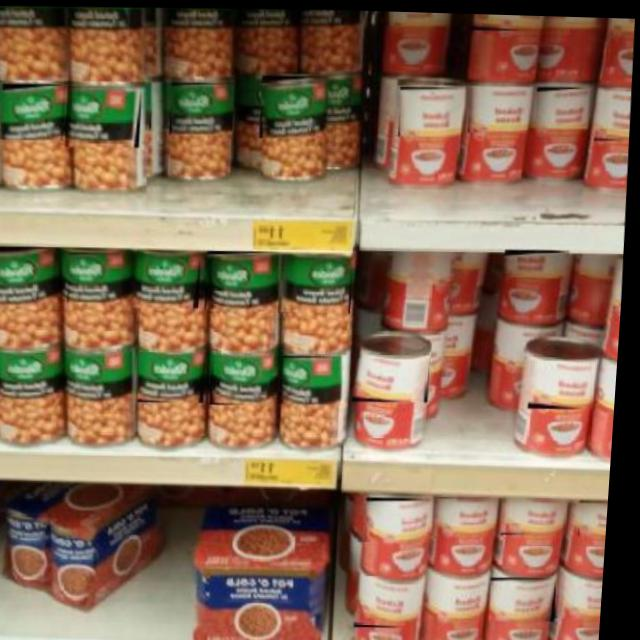Beans: (63, 84, 144, 148), (206, 248, 287, 309), (277, 253, 357, 314), (258, 73, 328, 139), (133, 250, 205, 309), (0, 342, 66, 406), (530, 355, 606, 408), (0, 83, 67, 143), (360, 572, 432, 627), (141, 348, 211, 404), (167, 81, 237, 136), (355, 355, 435, 402), (0, 245, 56, 312), (395, 83, 463, 136), (281, 352, 348, 405), (69, 345, 132, 401), (212, 352, 277, 405), (369, 494, 441, 541), (494, 573, 564, 620), (465, 83, 529, 133), (68, 250, 126, 305), (440, 493, 505, 538), (505, 493, 575, 533), (533, 83, 590, 128), (592, 84, 633, 140), (559, 575, 611, 617), (505, 246, 573, 276), (469, 11, 545, 30), (580, 494, 615, 532), (384, 9, 449, 25), (541, 13, 601, 30), (602, 14, 635, 39)
